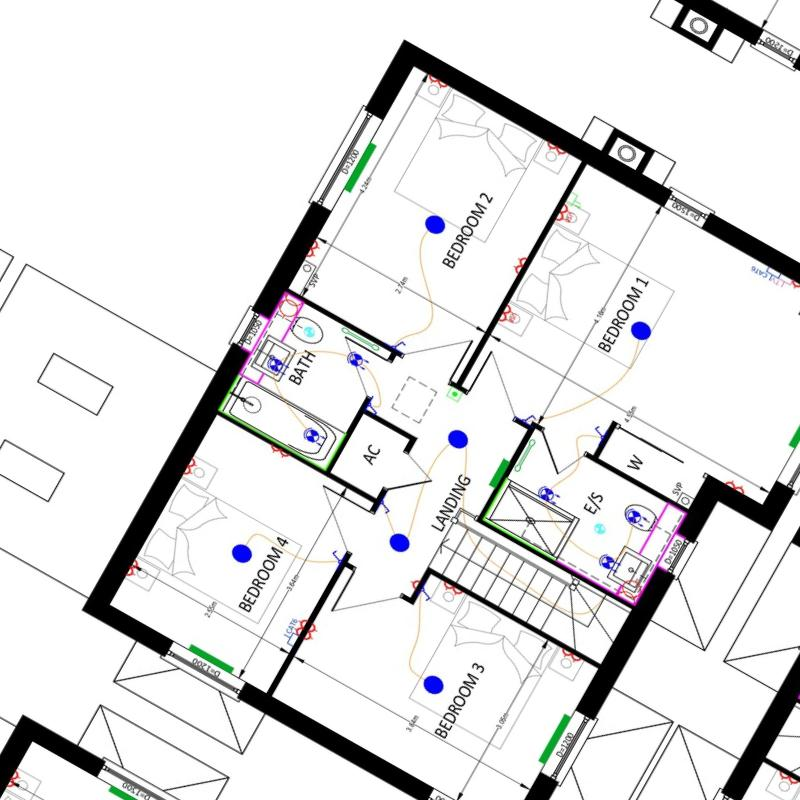Cat 6 Data Socket: (751, 266, 781, 284), (284, 618, 299, 646)
Ceiling Mounted Continuous Extract FanWith Boost Mode Activated By Light Switch: (303, 327, 316, 337), (594, 523, 605, 534)
Co-Ax TV Socket: (772, 274, 793, 287)
Double Socket: (498, 305, 517, 324), (555, 204, 573, 224), (724, 479, 745, 495), (561, 648, 581, 664), (779, 770, 799, 786), (444, 581, 463, 597), (546, 141, 566, 156), (429, 73, 447, 89), (126, 559, 142, 576), (513, 257, 528, 274), (6, 771, 21, 788), (271, 445, 290, 458), (305, 241, 320, 257), (183, 458, 197, 475), (294, 618, 307, 636), (304, 624, 317, 641)
Full Height Tiling: (218, 376, 345, 470), (483, 479, 563, 560)
Light Switch: (379, 499, 391, 515), (393, 339, 408, 351), (593, 425, 605, 440), (421, 587, 432, 603), (523, 413, 537, 424), (332, 549, 342, 564), (368, 403, 380, 415)
Low Energy Downlighter: (624, 508, 650, 528), (303, 427, 327, 448), (598, 553, 621, 574), (267, 355, 289, 376), (538, 485, 561, 505), (347, 351, 369, 371)
Low Energy Pendant Light: (631, 321, 652, 341), (448, 429, 469, 449), (423, 675, 444, 695), (425, 215, 446, 234), (389, 533, 410, 552), (232, 544, 252, 563)
Programmable Room Thermostat: (446, 386, 463, 402)
Radiator: (345, 142, 377, 193), (539, 714, 571, 764), (188, 644, 235, 675), (489, 459, 510, 488), (109, 786, 142, 800), (788, 428, 800, 450)
Shaver Socket: (279, 294, 303, 319), (618, 577, 641, 603)
Single Socket: (410, 579, 420, 589), (792, 280, 800, 292)
Telephone Socket: (565, 192, 582, 209)
